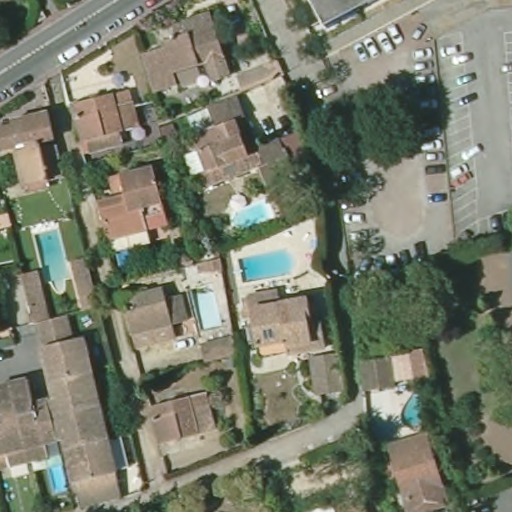pool: (25, 218, 77, 296), (233, 249, 304, 284), (223, 199, 281, 234), (40, 449, 75, 499), (401, 385, 433, 429)
